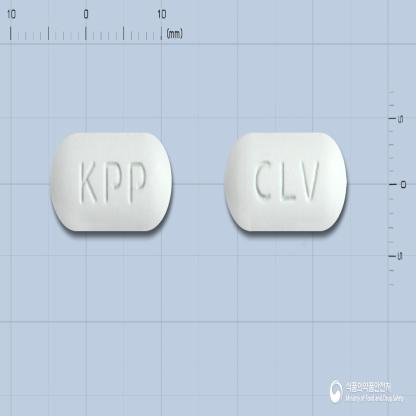pill: (49, 128, 173, 233), (223, 130, 348, 233)
